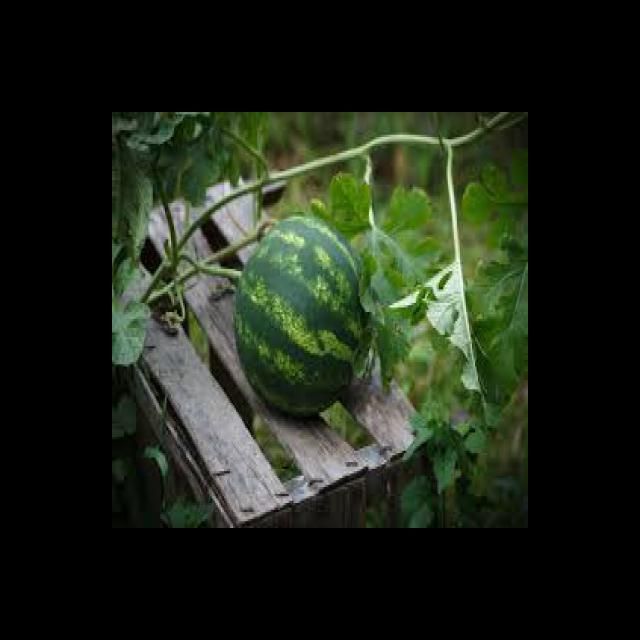watermelon: (234, 216, 374, 417)
